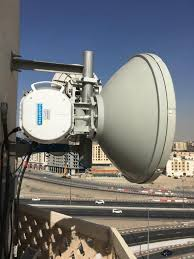ba: (70, 33, 174, 195)
